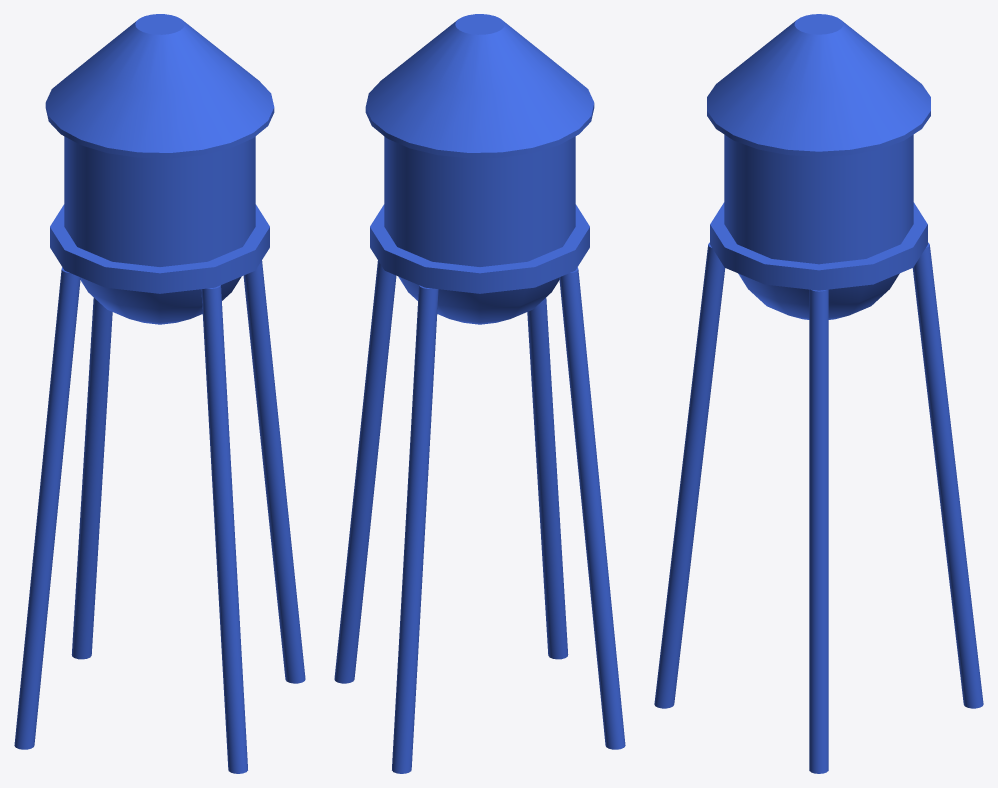
The model's file is jmp_waterTower.fbx.
3 views of the same model, side by side, from view 1: azimuth 30°, elevation 25°; view 2: azimuth 150°, elevation 25°; view 3: azimuth 270°, elevation 25° (orthographic).
Visible parts, largest first — view 1: OilTank001, Cone001, Cylinder003, Cylinder001, Cylinder002, Cylinder004; view 2: OilTank001, Cone001, Cylinder004, Cylinder001, Cylinder002, Cylinder003; view 3: OilTank001, Cone001, Cylinder002, Cylinder004, Cylinder003.
Part boxes in pixels (left/top/right/bottom): OilTank001: left=50, top=136, right=269, bottom=324; Cone001: left=45, top=14, right=274, bottom=158; Cylinder003: left=201, top=285, right=247, bottom=773; Cylinder001: left=14, top=267, right=80, bottom=749; Cylinder002: left=243, top=260, right=305, bottom=683; Cylinder004: left=71, top=297, right=112, bottom=659; OilTank001: left=370, top=136, right=589, bottom=324; Cone001: left=365, top=14, right=594, bottom=158; Cylinder004: left=392, top=285, right=438, bottom=773; Cylinder001: left=559, top=267, right=625, bottom=749; Cylinder002: left=334, top=260, right=396, bottom=683; Cylinder003: left=527, top=297, right=568, bottom=659; OilTank001: left=710, top=134, right=927, bottom=319; Cone001: left=707, top=14, right=930, bottom=156; Cylinder002: left=809, top=289, right=828, bottom=773; Cylinder004: left=912, top=242, right=983, bottom=708; Cylinder003: left=654, top=242, right=725, bottom=708.
Bounding box in the file's own units: 33.87 × 77.2 × 33.87.
